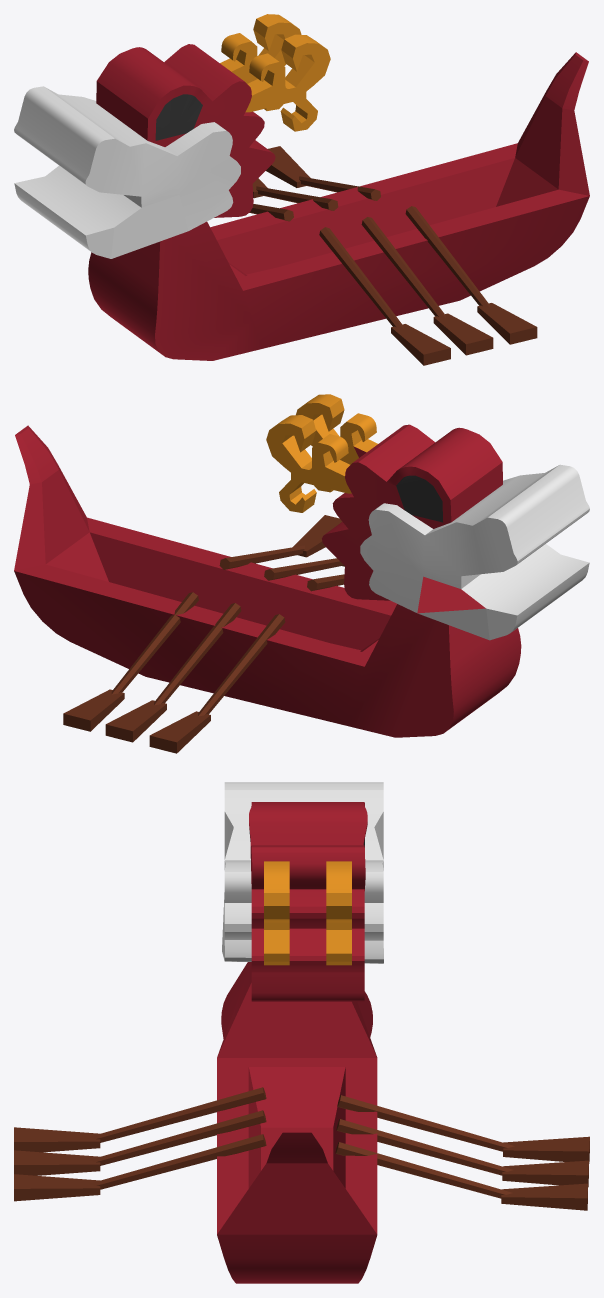
Rendered from DrakkarCOLORED_RED.fbx.
3 views of the same model, one above another, from view 1: azimuth 30°, elevation 25°; view 2: azimuth 150°, elevation 25°; view 3: azimuth 270°, elevation 25° (orthographic). The views are drawn at different scales.
Parts seen in each view (by area): view 1: Cube, Wioslo 1, Wioslo 2; view 2: Cube, Wioslo 2, Wioslo 1; view 3: Cube, Wioslo 1, Wioslo 2.
Part boxes in pixels (<box>): Cube: <box>14,14,589,360</box>; Wioslo 1: <box>319,206,537,365</box>; Wioslo 2: <box>249,146,380,221</box>; Cube: <box>14,394,589,737</box>; Wioslo 2: <box>63,592,285,753</box>; Wioslo 1: <box>219,515,344,591</box>; Cube: <box>217,782,383,1283</box>; Wioslo 1: <box>14,1087,266,1201</box>; Wioslo 2: <box>335,1095,589,1210</box>.
Size of the model in its own units: 90.8 by 47.32 by 76.89.
